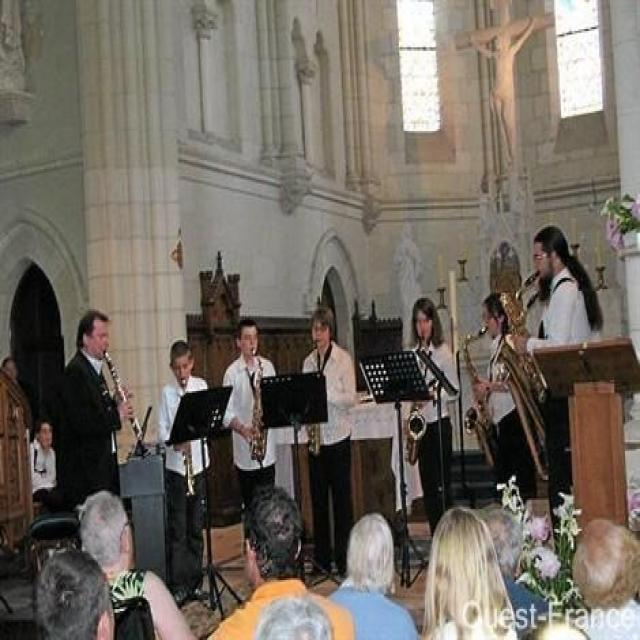clarinet: (102, 351, 151, 456)
saxophone: (499, 271, 557, 485), (458, 323, 502, 469), (398, 345, 428, 475), (245, 345, 269, 465), (306, 418, 324, 453)
